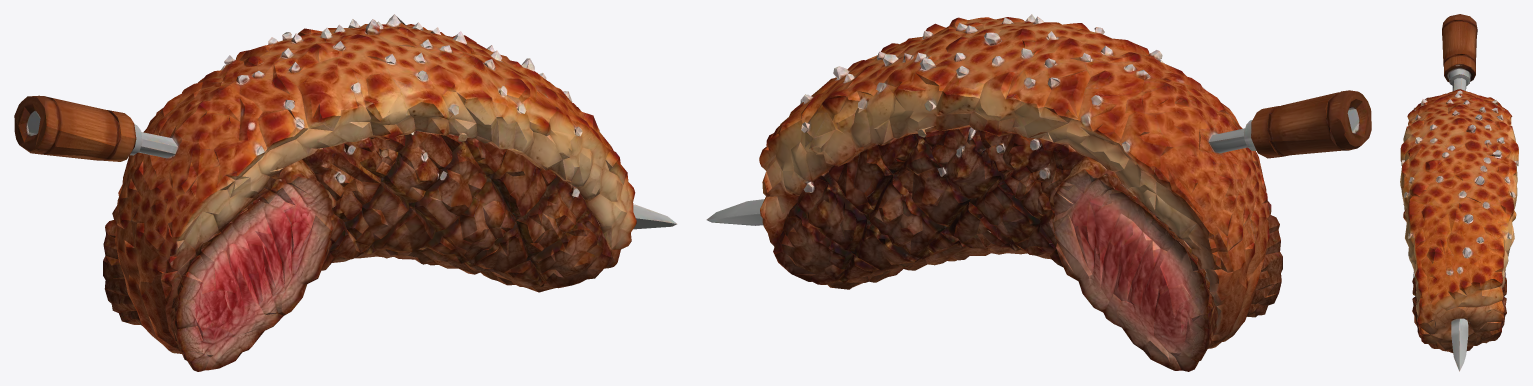
File: picanha.glb
3 views of the same model, side by side, from view 1: azimuth 30°, elevation 25°; view 2: azimuth 150°, elevation 25°; view 3: azimuth 270°, elevation 25° (orthographic). The views are drawn at different scales.
Visible parts, largest first — view 1: output_unwrapped; view 2: output_unwrapped; view 3: output_unwrapped.
Boxes of the visible parts, x1,y1,x2,y2 form: output_unwrapped: [14, 14, 676, 371]; output_unwrapped: [706, 14, 1371, 371]; output_unwrapped: [1400, 14, 1518, 371].
Size of the model in its own units: 1.9 by 0.8729 by 0.4957.
Materials: 1 (1 with a texture image).
